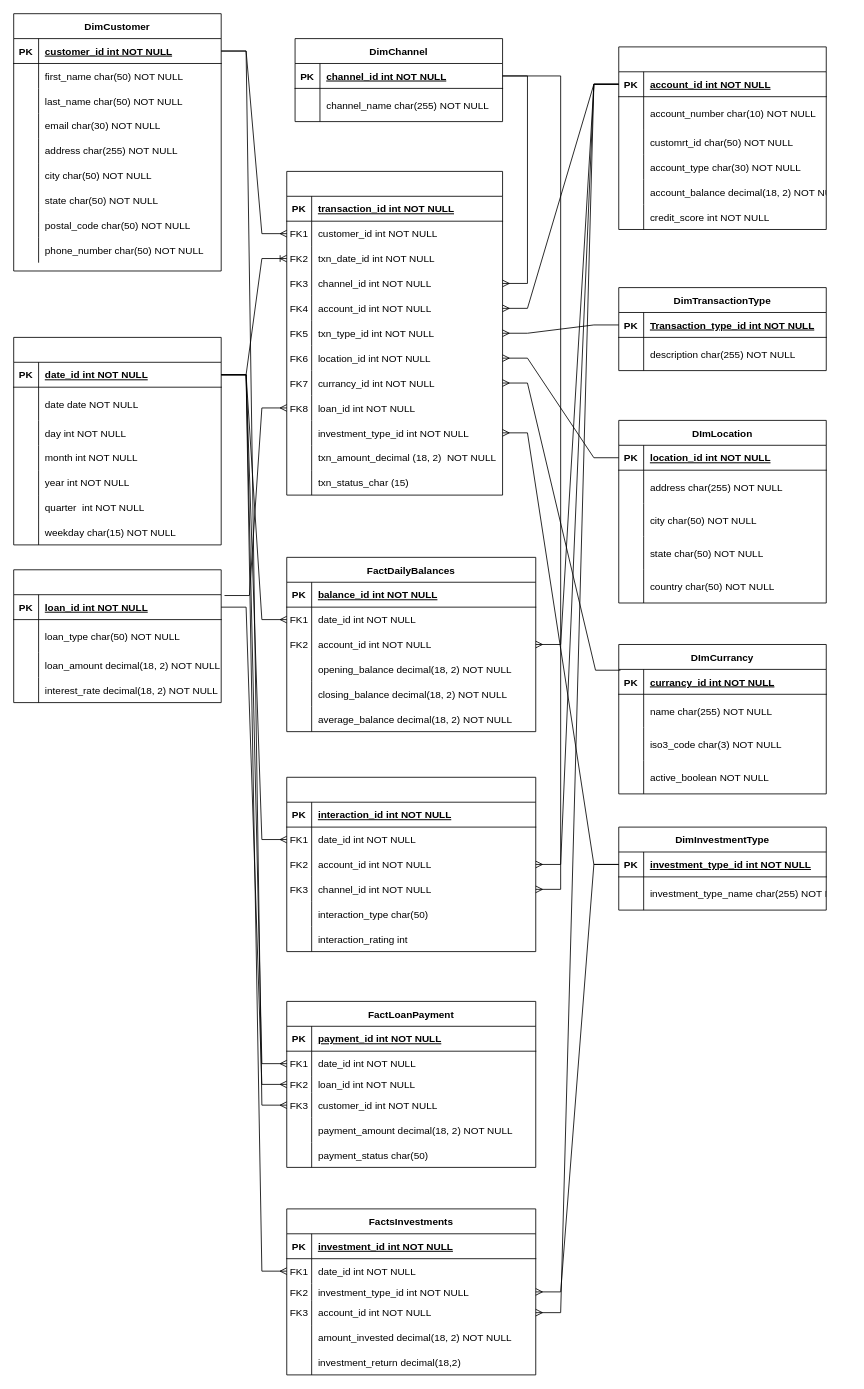
Some shapes in this 864 by 1389 pixel diagram are drawn without their labels. Each missing label, with the box of its shape:
DimAccount: (618, 46, 826, 229)
DimDate: (13, 337, 221, 545)
DimLoan: (13, 569, 221, 703)
FactCutomerInteractions: (286, 776, 536, 952)
FactTransaction: (286, 171, 503, 495)
